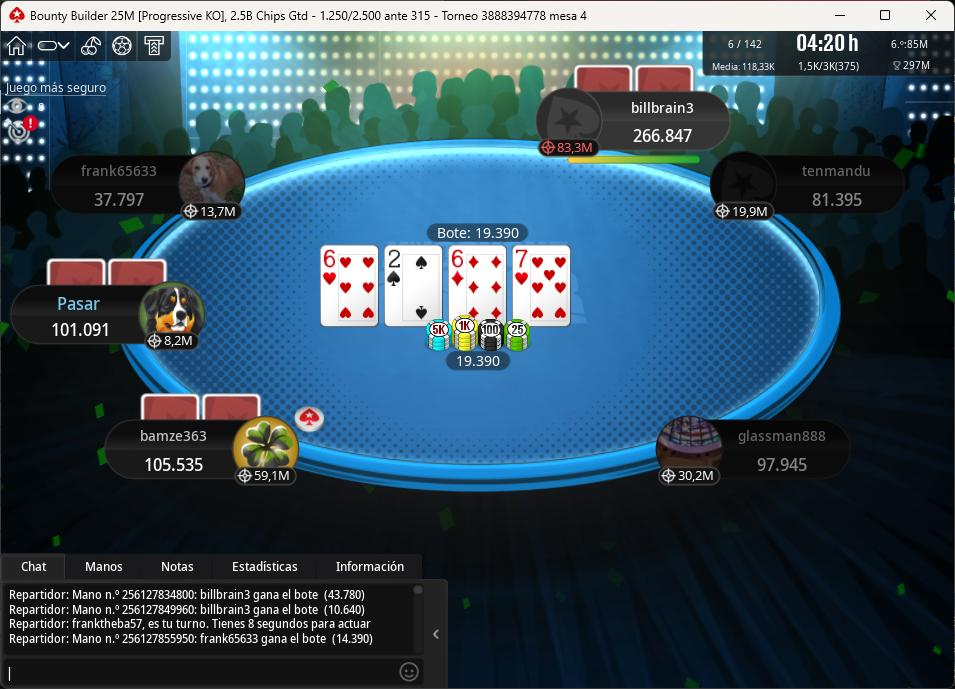Dealer: (296, 406, 327, 432)
HiddenCards: (140, 392, 264, 421), (44, 258, 172, 286), (575, 67, 693, 96)
Player: (650, 418, 849, 487), (11, 282, 208, 349), (107, 419, 302, 486), (53, 151, 249, 217), (711, 152, 911, 216), (542, 93, 732, 160)
PlayerChips: (752, 448, 815, 479), (48, 321, 116, 342), (627, 126, 700, 145), (805, 190, 871, 210), (86, 190, 151, 210), (141, 455, 208, 474)
Pot: (426, 223, 531, 243)
ShowedCards: (320, 244, 575, 330)
ShowedCards1: (319, 245, 384, 331)
ShowedCards2: (384, 246, 447, 330)
ShowedCards3: (446, 246, 511, 326)
ShowedCards4: (511, 241, 574, 327)
SmallBigBlind: (311, 1, 442, 28)
TablePot: (415, 315, 536, 377)
